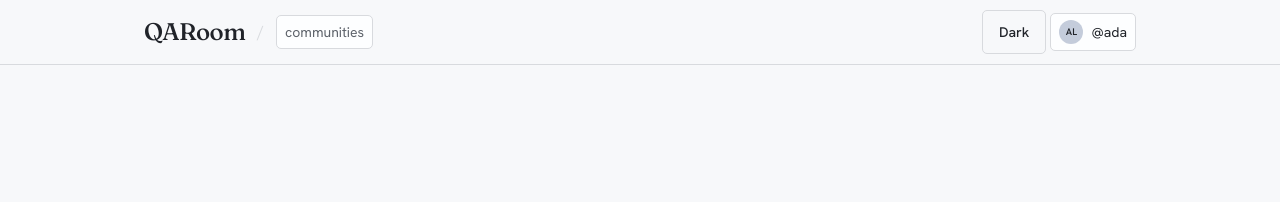
Test: opening the community switcher lists each community by name
Click the button with aria-label "Switch communities": (325,32) [276,15,373,49]
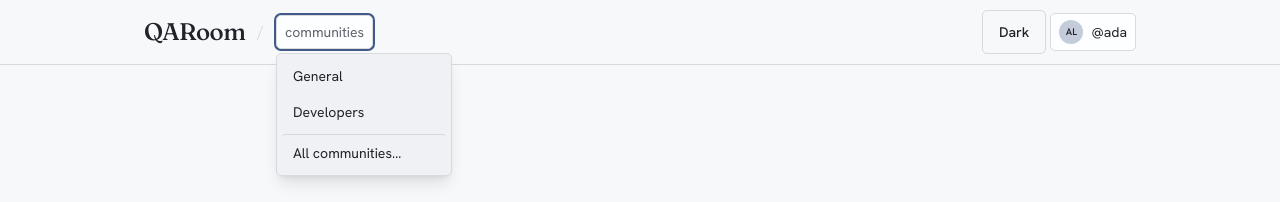
expect the link "General" is shown: met, box [293,67,343,85]
expect the link "Developers" is shown: met, box [293,103,364,121]
